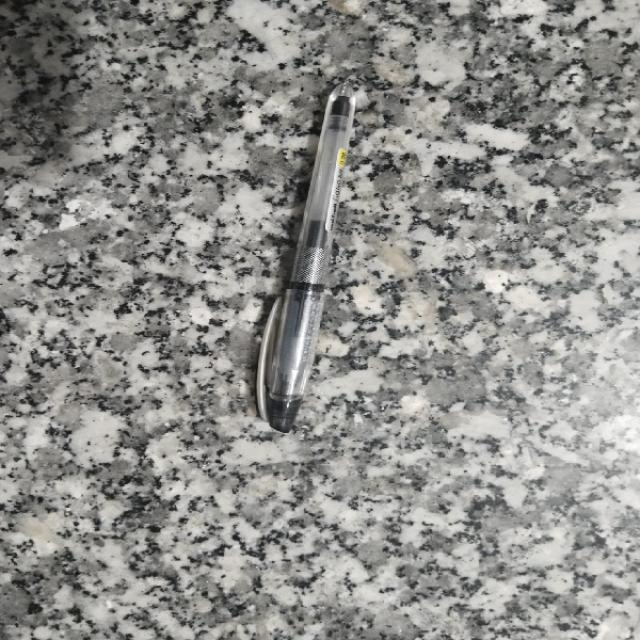pen: (258, 84, 355, 431)
